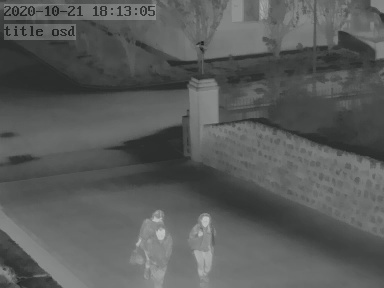person: (144, 215, 172, 288), (189, 209, 215, 282)
